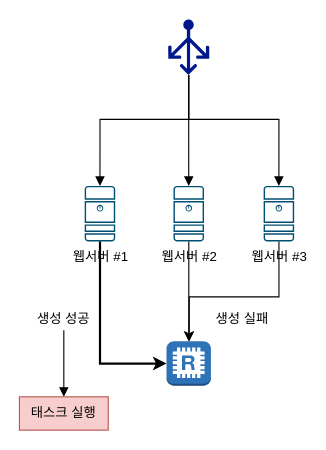
This 326x450 diagram has some shape labels left out. Here are the shapes that lost their labels. From the top down, the centre of each, then its label:
At (x=188, y=46): "로드 밸런서".
At (x=188, y=363): "레디스".
